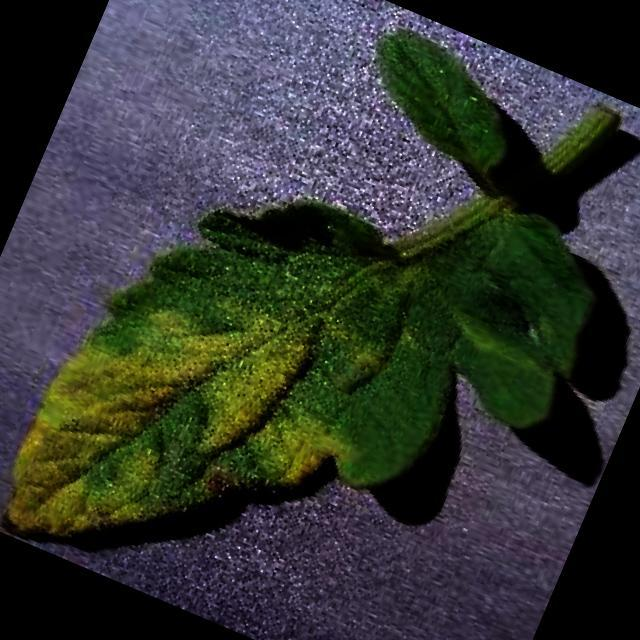Tomato mold leaf: (0, 70, 624, 640)
